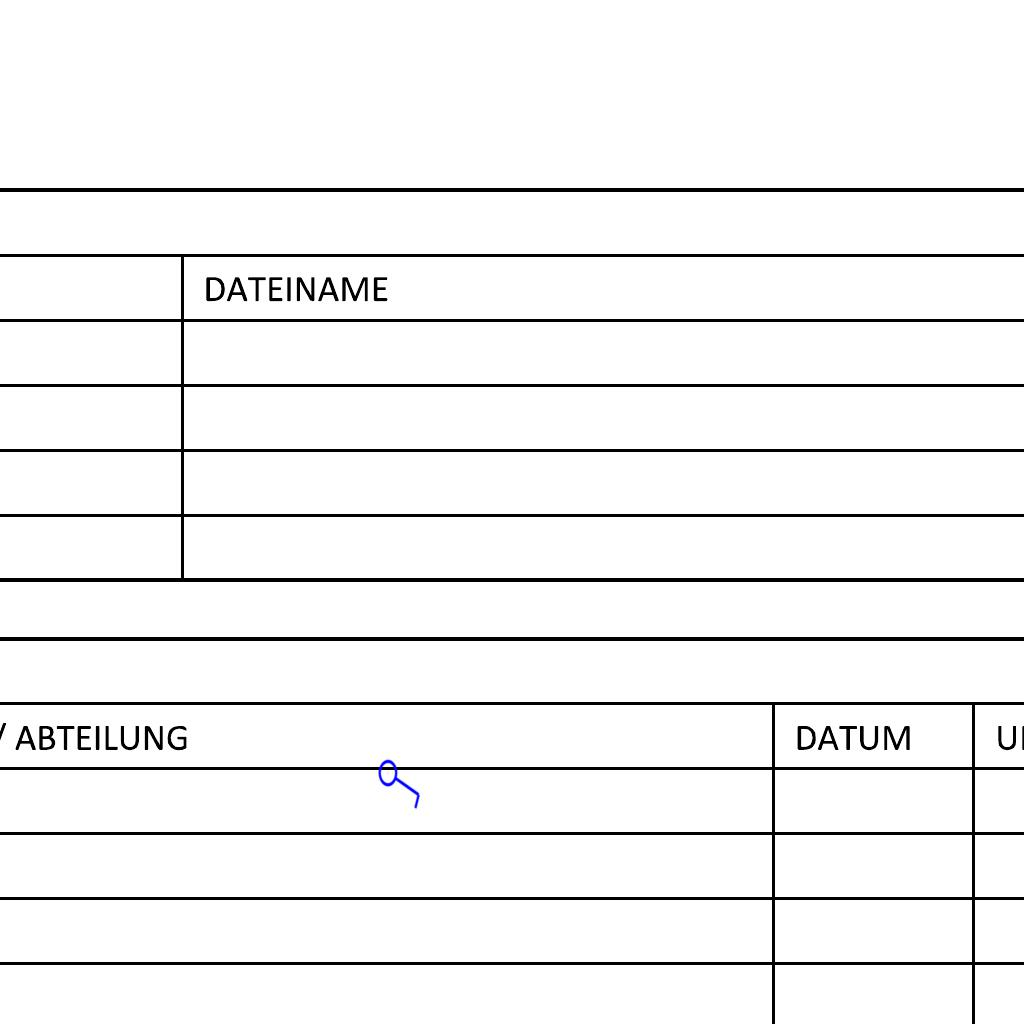Ausschalter: (377, 754, 425, 810)
